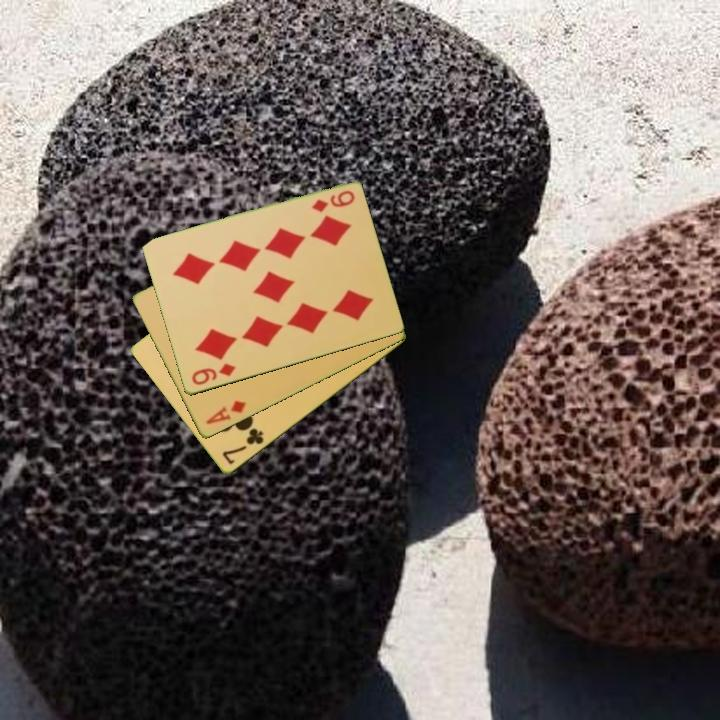7c: (218, 425, 267, 468)
9d: (308, 187, 357, 216), (188, 360, 238, 388)
Ad: (202, 397, 249, 428)
